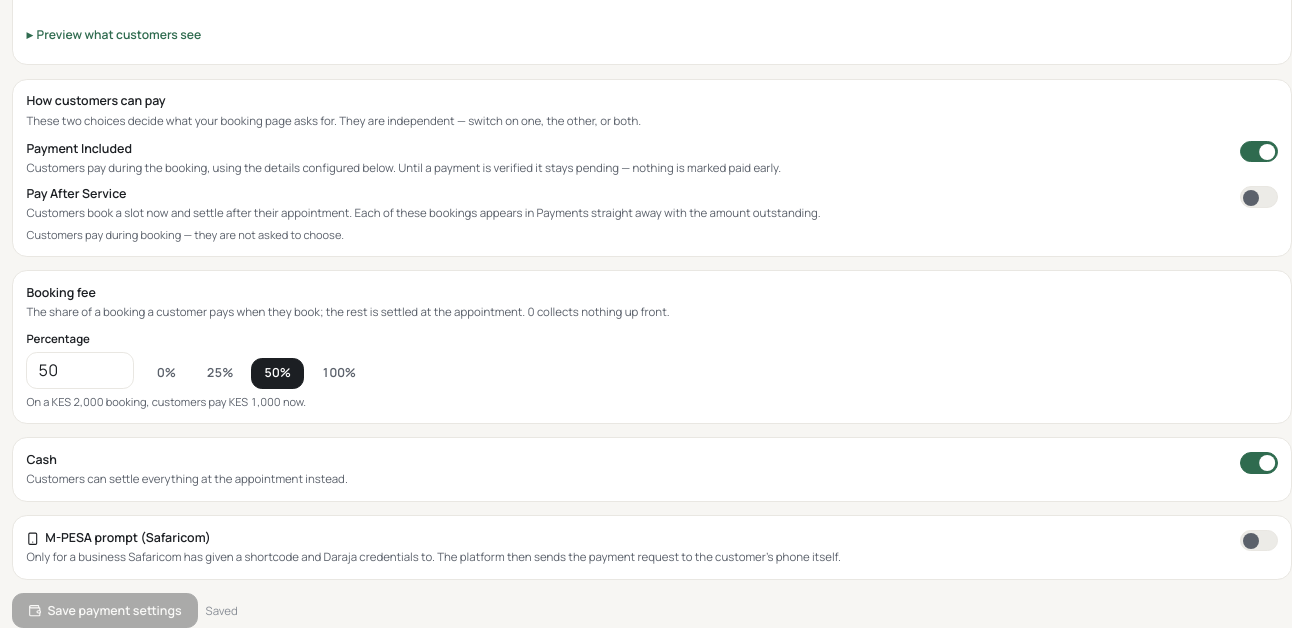
Test case: PaymentsSettings › surfaces the server’s refusal rather than pretending the settings saved
(page scrolled)
Step 1. Replace the text in the field labelled "Percentage" with "150" → (80, 370), box [26, 352, 134, 389]
(page scrolled)
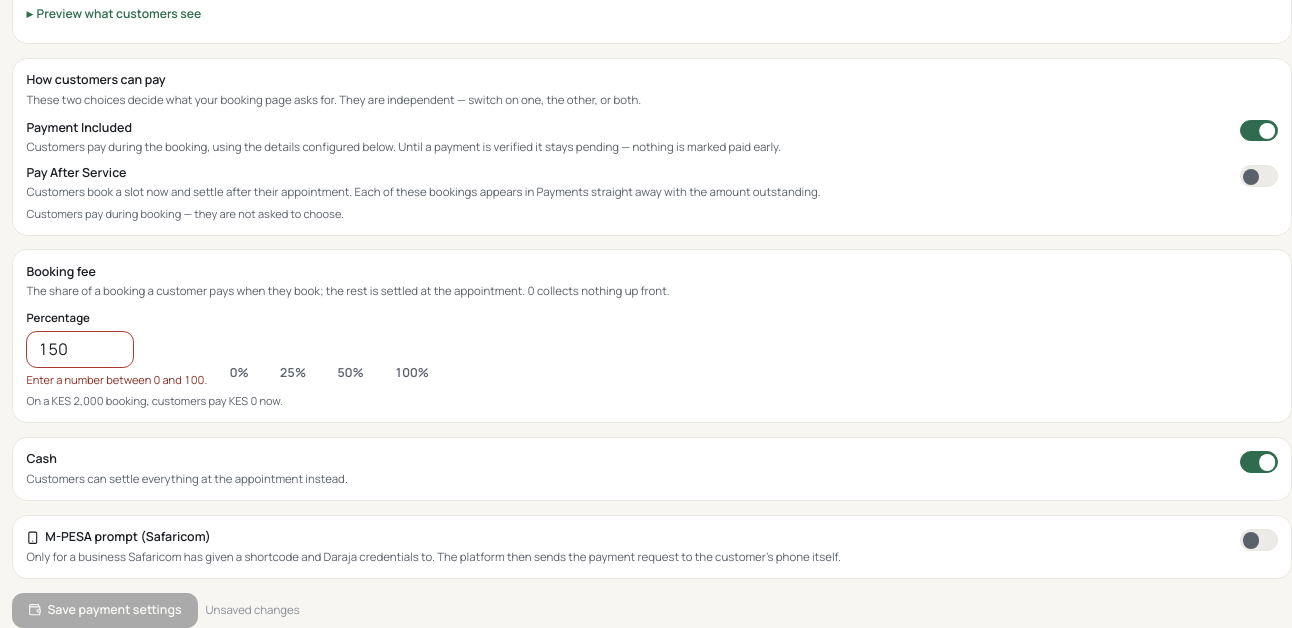
Expected: the button "Save payment settings" is disabled, [12, 592, 198, 627]
Now the text "Enter a number between 0 and 100." is shown, box [26, 372, 207, 388]
